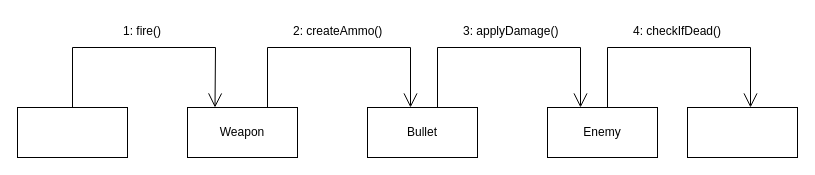
This 815x175 diagram has some shape labels left out. Here are the shapes that lost their labels. From the top down, the centre of each, then its label:
pixel 72 132: Player
pixel 742 132: Game Engine
